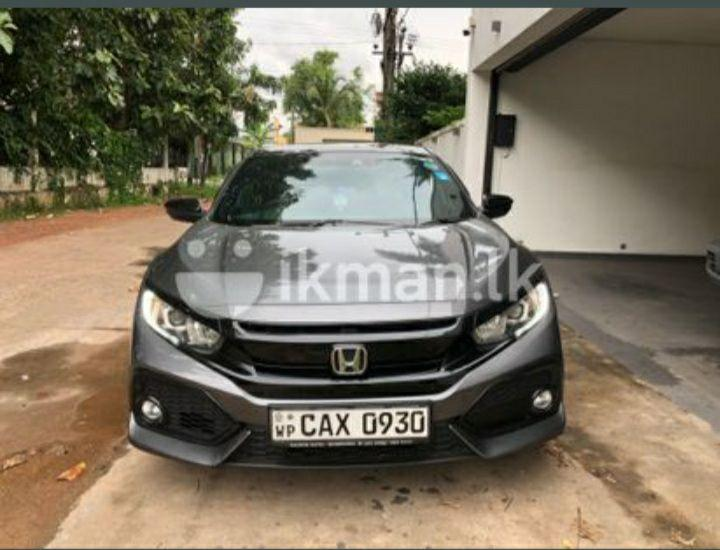license-plate: (267, 405, 428, 437)
